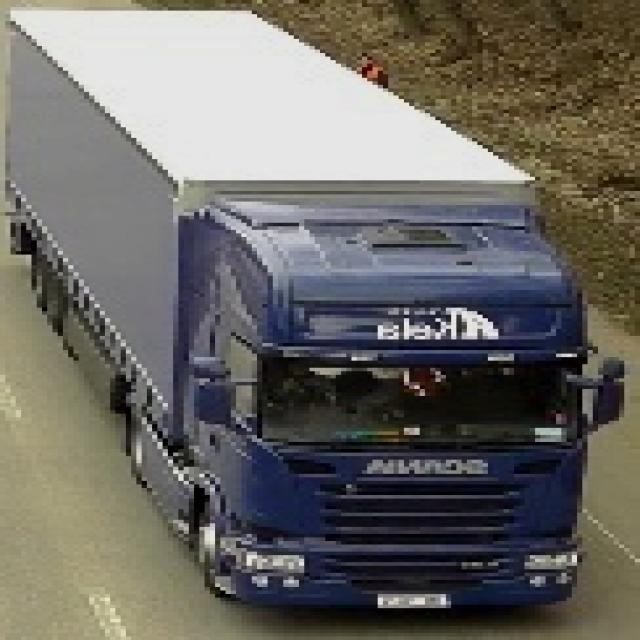TRUCK: (18, 14, 596, 626)
